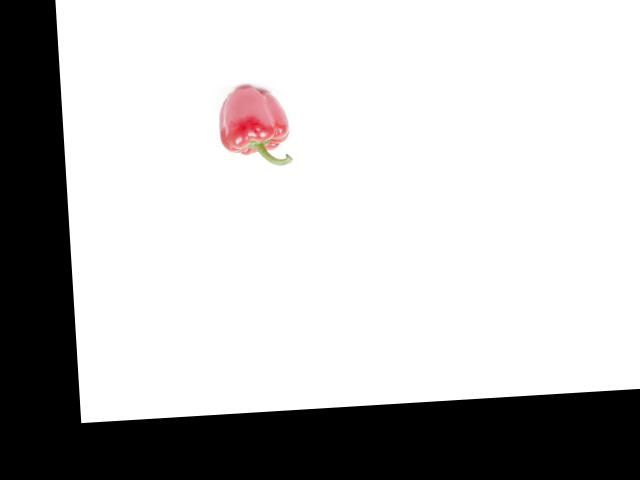bell_pepper: (211, 81, 296, 170)
